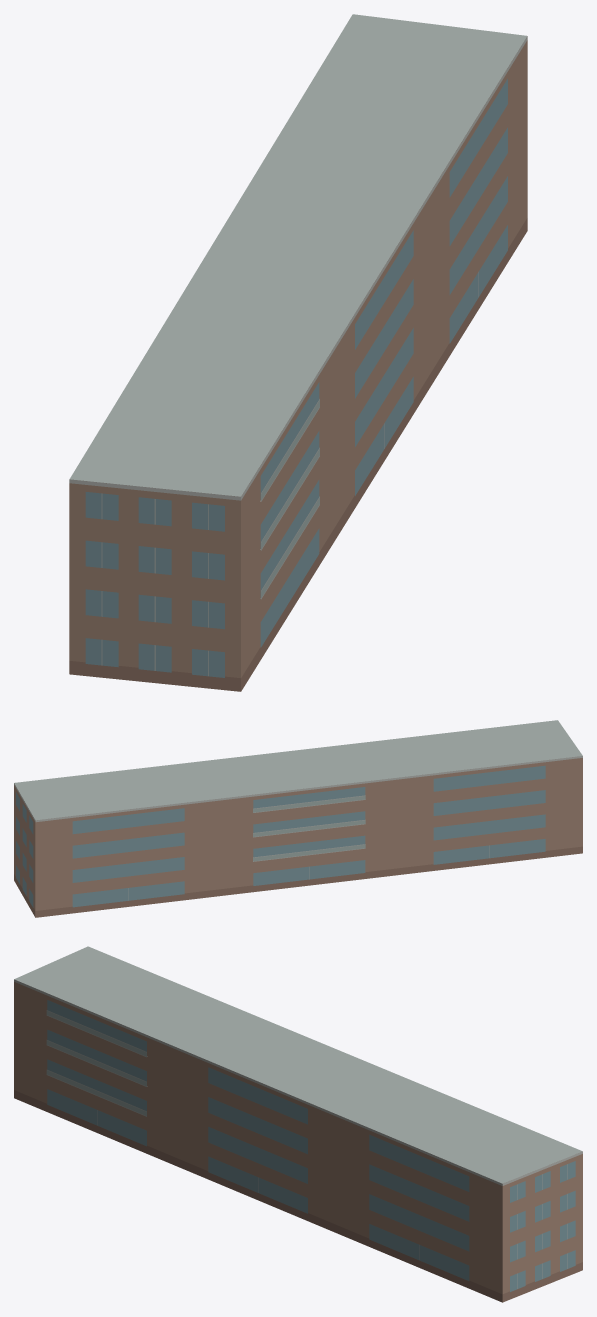
Rendered from survey-upis-32758762.glb.
3 views of the same model, one above another, from view 1: azimuth 30°, elevation 25°; view 2: azimuth 150°, elevation 25°; view 3: azimuth 270°, elevation 25° (orthographic). The views are drawn at different scales.
Visible parts, largest first — view 1: survey-upis-32758762.tmp; view 2: survey-upis-32758762.tmp; view 3: survey-upis-32758762.tmp.
Part boxes in pixels (bbox=[...]): survey-upis-32758762.tmp: bbox=[69, 14, 527, 691]; survey-upis-32758762.tmp: bbox=[14, 720, 582, 917]; survey-upis-32758762.tmp: bbox=[14, 946, 582, 1302].
Bounding box in the file's own units: 52.24 × 12.2 × 52.91.
